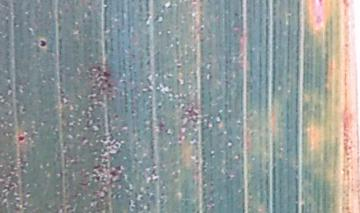tarspot: (109, 165, 122, 177), (186, 105, 199, 117), (37, 38, 49, 48), (156, 120, 164, 133), (101, 70, 111, 79), (14, 134, 25, 142), (197, 23, 204, 34), (341, 1, 350, 8), (145, 58, 151, 67), (231, 11, 240, 17), (129, 108, 136, 115), (316, 1, 323, 7), (113, 112, 119, 119), (106, 82, 113, 87), (156, 104, 163, 109), (103, 79, 108, 83)
